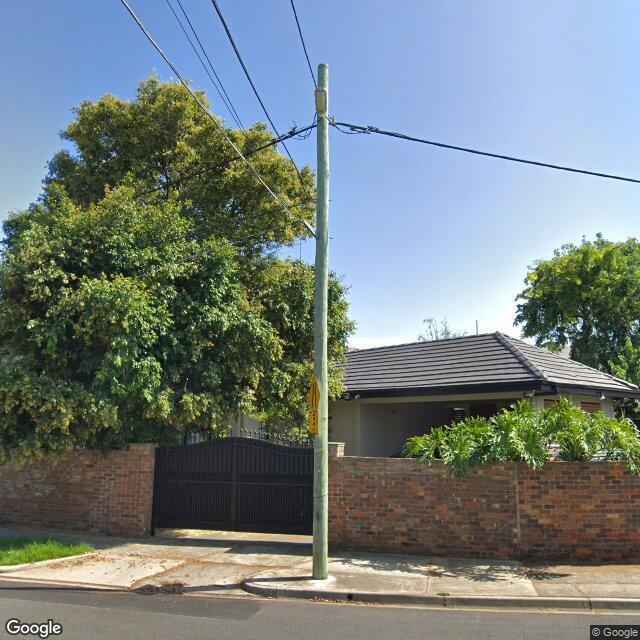streetlight: (314, 88, 328, 119)
timber-pole: (310, 63, 330, 582)
